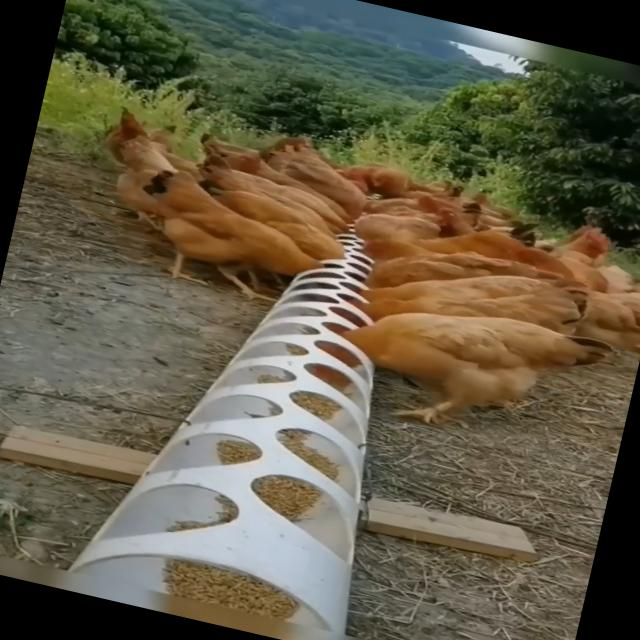feeding: (322, 276, 614, 450), (82, 156, 334, 312)
